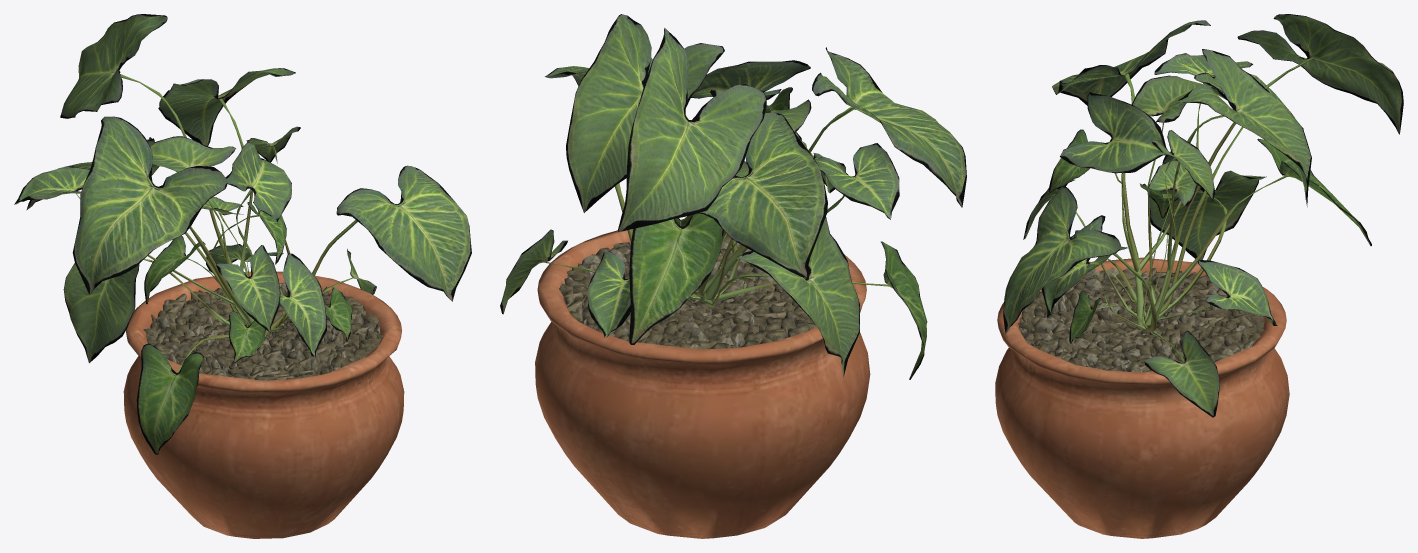
The model's file is potted_plant_02.glb.
The picture shows the model from 3 angles, left to right: view 1: azimuth 30°, elevation 25°; view 2: azimuth 150°, elevation 25°; view 3: azimuth 270°, elevation 25°; orthographic projection. The views are drawn at different scales.
Parts seen in each view (by area): view 1: potted_plant_02_leaves, potted_plant_02_pot, potted_plant_02_dirt; view 2: potted_plant_02_leaves, potted_plant_02_pot, potted_plant_02_dirt; view 3: potted_plant_02_leaves, potted_plant_02_pot, potted_plant_02_dirt.
Part boxes in pixels (x1,y1,x2,y2): potted_plant_02_leaves: (14,14,471,454); potted_plant_02_pot: (123,271,404,538); potted_plant_02_dirt: (143,282,383,380); potted_plant_02_leaves: (500,14,966,379); potted_plant_02_pot: (535,219,870,538); potted_plant_02_dirt: (559,233,816,349); potted_plant_02_leaves: (1003,14,1403,417); potted_plant_02_pot: (995,257,1289,538); potted_plant_02_dirt: (1018,267,1264,372).
Size of the model in its own units: 0.7009 by 0.8411 by 0.6561.
Materials: 2 (2 with a texture image).
